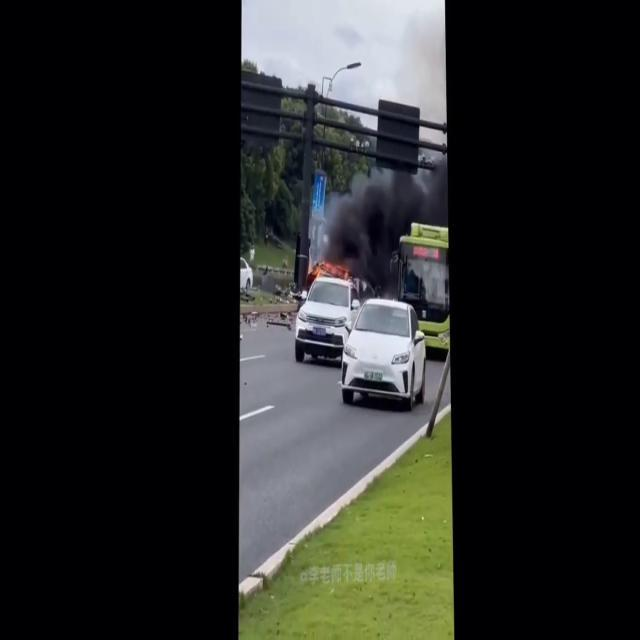Fire: (311, 257, 354, 287)
Smoke: (312, 158, 446, 276)
